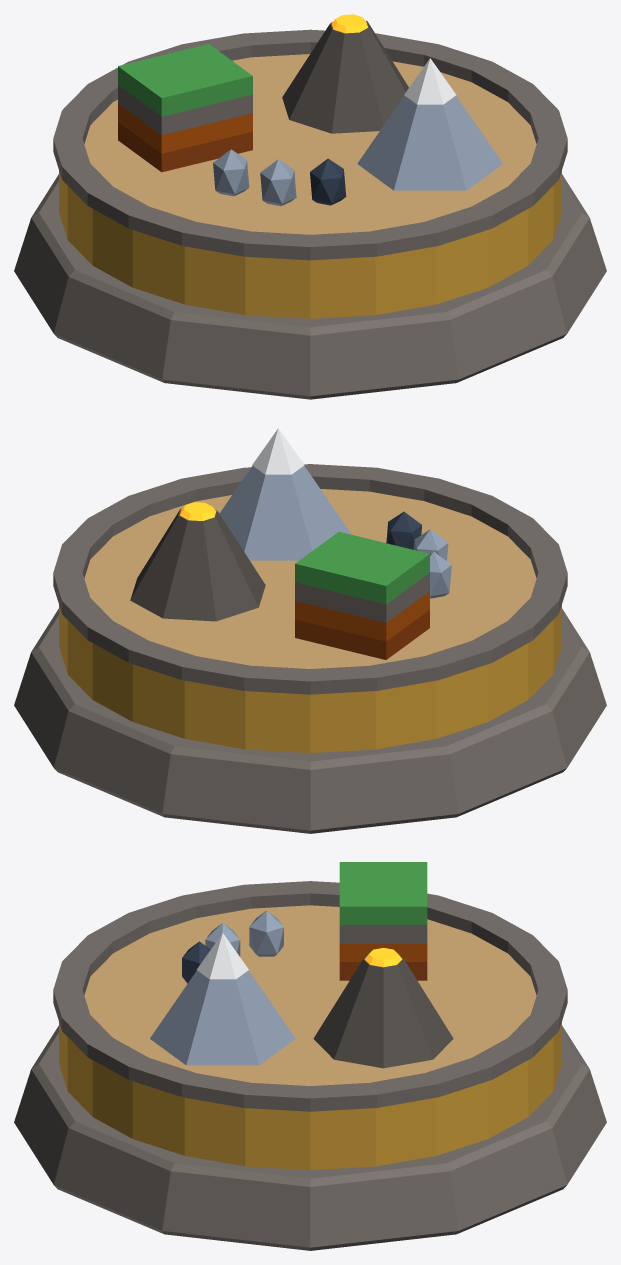
The model's file is stasiun_litosfer_v001.glb.
3 renders of one model, top to bottom at view 1: azimuth 30°, elevation 25°; view 2: azimuth 150°, elevation 25°; view 3: azimuth 270°, elevation 25°, orthographic.
Parts seen in each view (by area): view 1: Stasiun_Litosfer; view 2: Stasiun_Litosfer; view 3: Stasiun_Litosfer.
Part boxes in pixels (box(x1,y1,x2,y2)): Stasiun_Litosfer: box(14, 14, 606, 399); Stasiun_Litosfer: box(14, 428, 606, 833); Stasiun_Litosfer: box(14, 862, 606, 1250).
Bounding box in the file's own units: 2.03 × 0.875 × 2.03.
